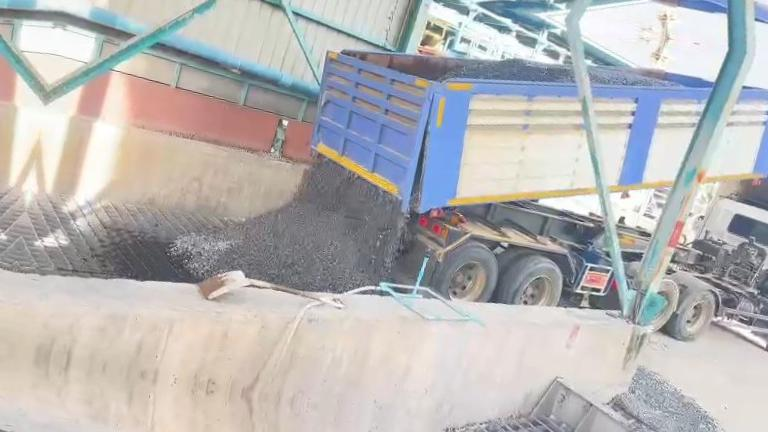gravel: (171, 159, 405, 292), (611, 367, 746, 432), (428, 59, 574, 83), (589, 67, 679, 86)
